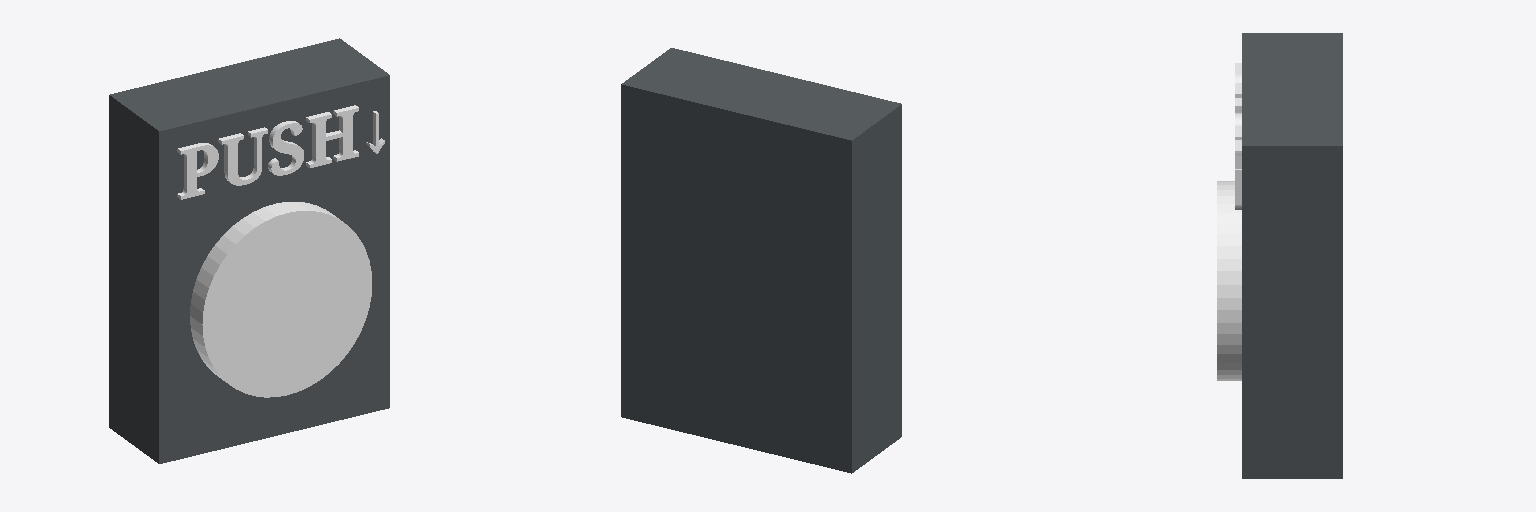
File: tinker.obj
3 views of the same model, side by side, from view 1: azimuth 30°, elevation 25°; view 2: azimuth 150°, elevation 25°; view 3: azimuth 270°, elevation 25° (orthographic).
Visible parts, largest first — view 1: obj_0; view 2: obj_0; view 3: obj_0.
Part boxes in pixels (left/top/right/bottom): obj_0: left=109, top=38, right=389, bottom=463; obj_0: left=621, top=48, right=901, bottom=473; obj_0: left=1217, top=33, right=1342, bottom=478.
Size of the model in its own units: 53 by 73 by 25.